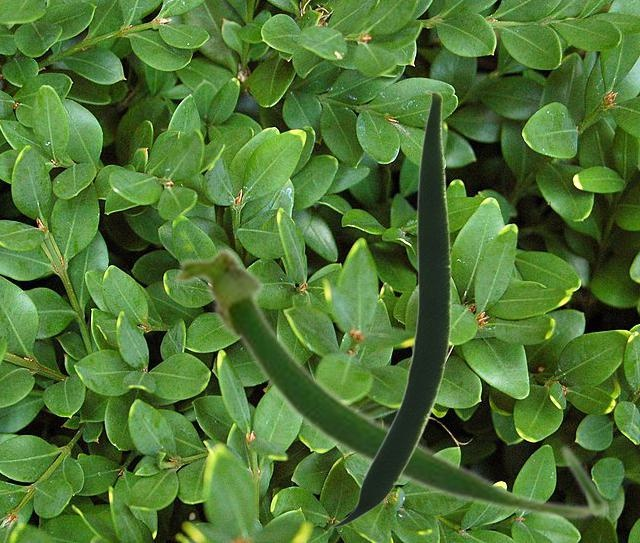french_bean: (171, 244, 610, 521), (329, 90, 450, 527)
